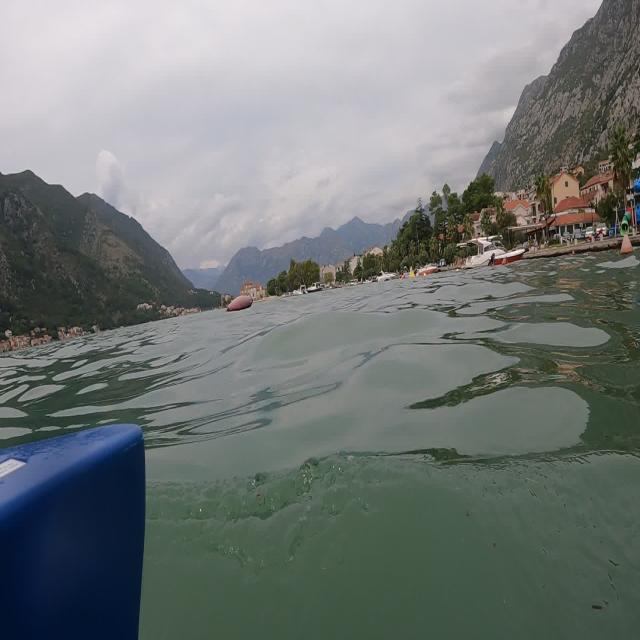buoy: (223, 288, 254, 317), (618, 229, 636, 266)
